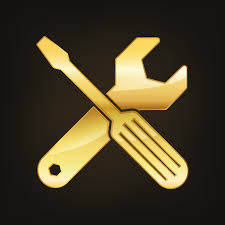Screwdriver: (27, 30, 197, 197)
Wrench: (107, 37, 186, 109), (39, 107, 109, 186)
